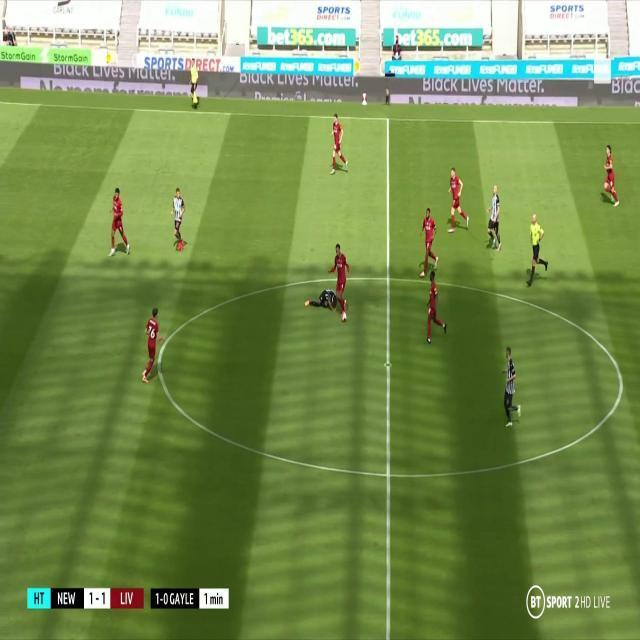player: (420, 271, 447, 348), (105, 187, 132, 261), (140, 307, 165, 386), (501, 346, 523, 434), (445, 166, 470, 238), (417, 205, 439, 281), (482, 183, 504, 254), (326, 112, 350, 177), (331, 243, 352, 316), (168, 188, 188, 252), (601, 143, 619, 211), (303, 288, 338, 311)
referee: (525, 214, 549, 289), (188, 57, 201, 113)
